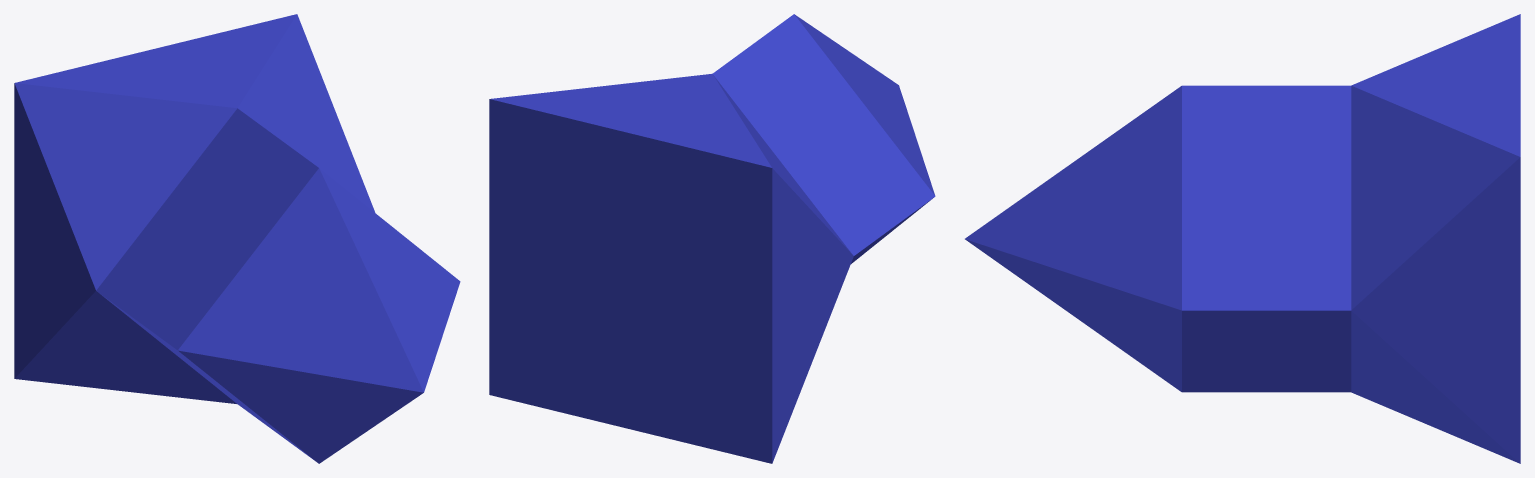
The model's file is Player.obj.
3 views of the same model, side by side, from view 1: azimuth 30°, elevation 25°; view 2: azimuth 150°, elevation 25°; view 3: azimuth 270°, elevation 25° (orthographic). The views are drawn at different scales.
Parts seen in each view (by area): view 1: Cube; view 2: Cube; view 3: Cube.
Part boxes in pixels (box(x1,y1,x2,y2)): Cube: box(14, 14, 460, 463); Cube: box(489, 14, 935, 463); Cube: box(965, 14, 1520, 463).
Size of the model in its own units: 2 by 2 by 3.28.
